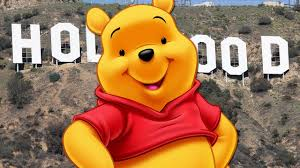Winnie: (73, 1, 215, 128)
